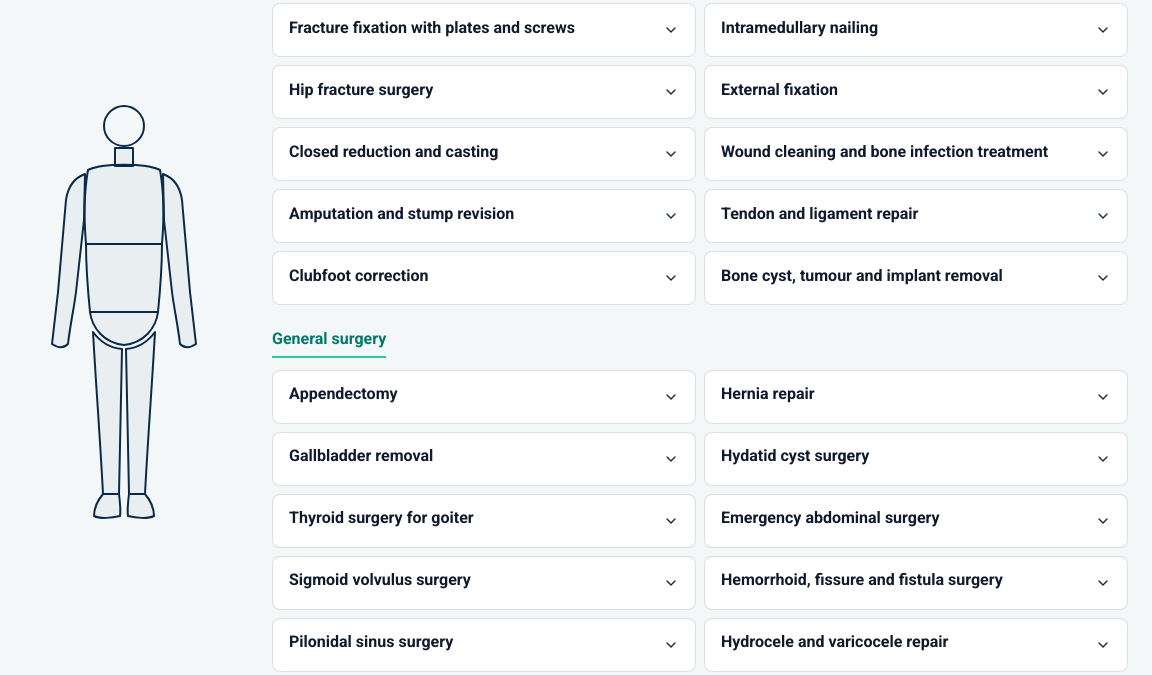
Test: an operation opens to show what it is and a WhatsApp link about it
(page scrolled)
Expected: the link "Ask about this on WhatsApp" is not shown
Click the button "Hernia repair".
click(768, 396)  # box [705, 371, 1127, 423]
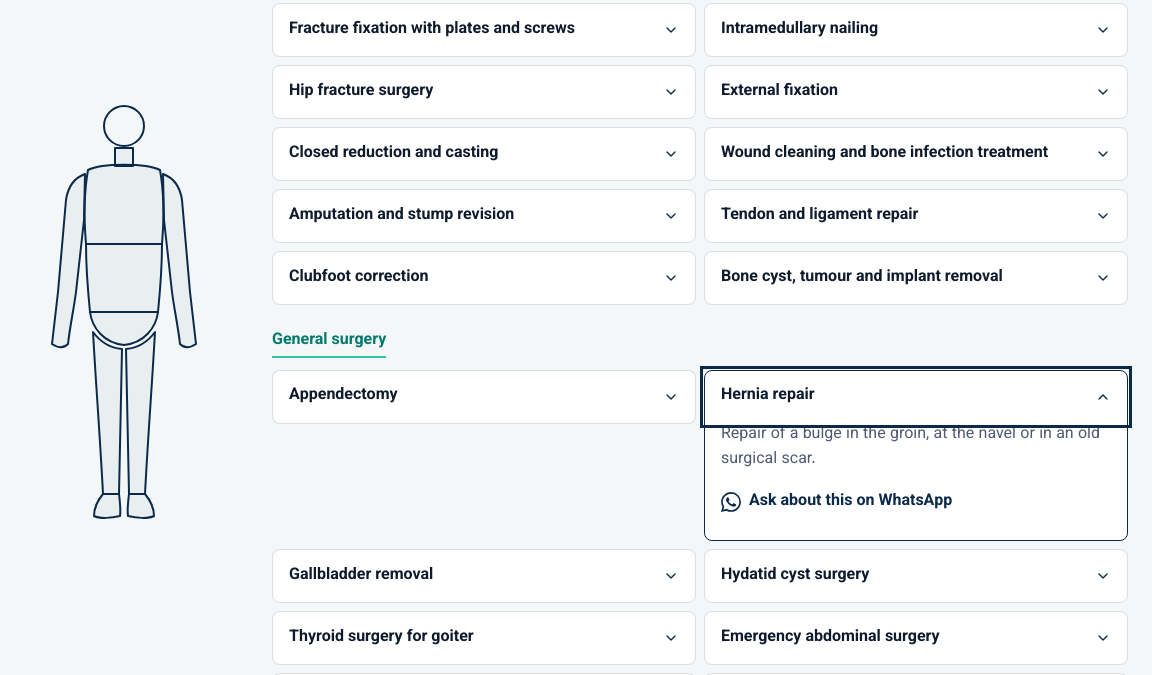
Result: the button "Hernia repair" is expanded at [705, 371, 1127, 423]
